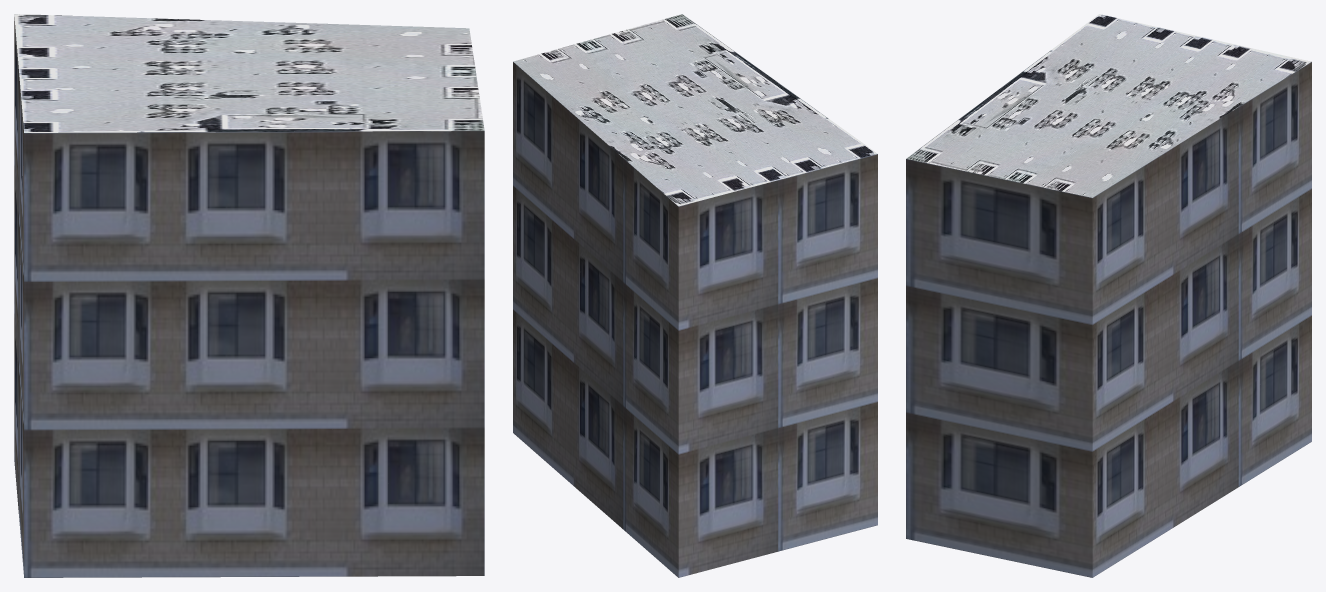
Rendered from ResTex__2549.fbx.
3 renders of one model, left to right at view 1: azimuth 30°, elevation 25°; view 2: azimuth 150°, elevation 25°; view 3: azimuth 270°, elevation 25°, orthographic. The views are drawn at different scales.
Visible parts, largest first — view 1: CityEngineMaterial_3_m, CityEngineMaterial_2_m; view 2: CityEngineMaterial_3_m, CityEngineMaterial_2_m; view 3: CityEngineMaterial_3_m, CityEngineMaterial_2_m.
Boxes of the visible parts, <box> form: CityEngineMaterial_3_m: <box>14,17,484,577</box>; CityEngineMaterial_2_m: <box>14,14,484,132</box>; CityEngineMaterial_3_m: <box>513,62,877,577</box>; CityEngineMaterial_2_m: <box>513,14,877,206</box>; CityEngineMaterial_3_m: <box>906,62,1311,577</box>; CityEngineMaterial_2_m: <box>906,14,1311,197</box>.
Size of the model in its own units: 9.34 by 9 by 8.71.
2 materials, 2 textured.
